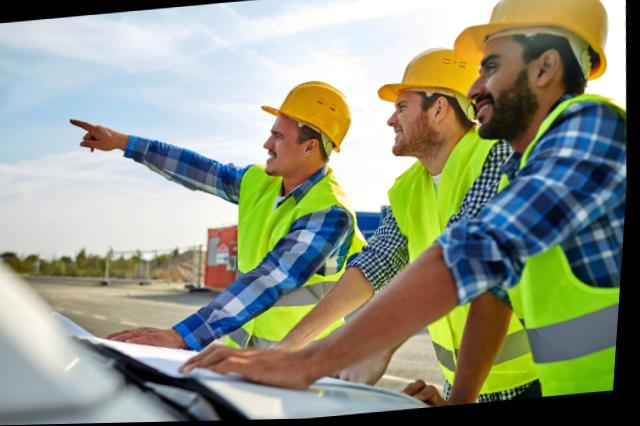helmet: (461, 0, 609, 65), (258, 74, 353, 150), (377, 48, 483, 110)
vest: (504, 90, 635, 402), (382, 152, 541, 384), (234, 155, 355, 352)
